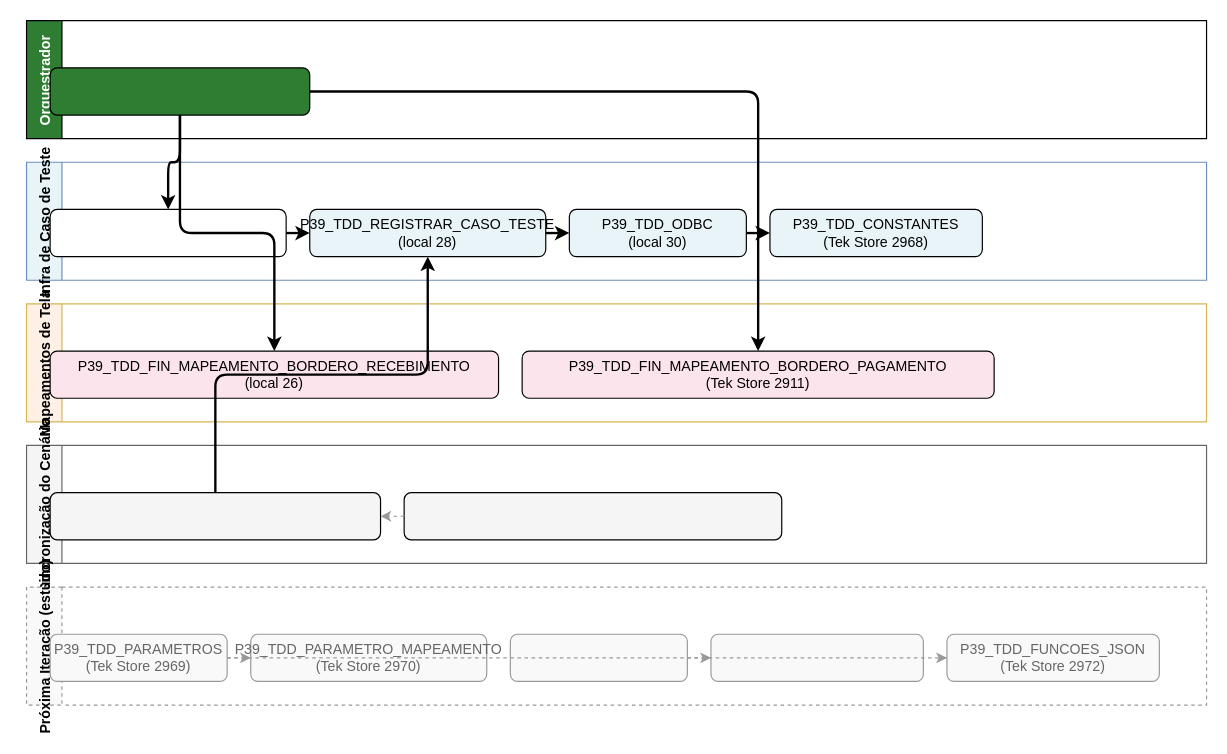
Some shapes in this 1227 by 754 pixel diagram are drawn without their labels. The shapes that lost their labels are listed below. From the top down, each one's centre as x and y in pixels, then its label:
At (179,91): "P39_REFACTOR_TDD_FINANCEIRO (local 38)".
At (167,232): "P39_TDD_CARREGAR_CASO_TESTE (local 31)".
At (215,515): "P39_TDD_SINCRONIZAR_CASOS_TESTE_REGISTRADOS (local 29)".
At (592,515): "P39_TDD_JSON_BASE_CADASTRO_DUPLICATAS_RECEBER (local 27 - JSON base Financeiro)".
At (598,657): "P39_TDD_ASSERTS (Tek Store 3042)".
At (816,657): "P39_TDD_CASOS_DE_TESTE (Tek Store 2971)".
